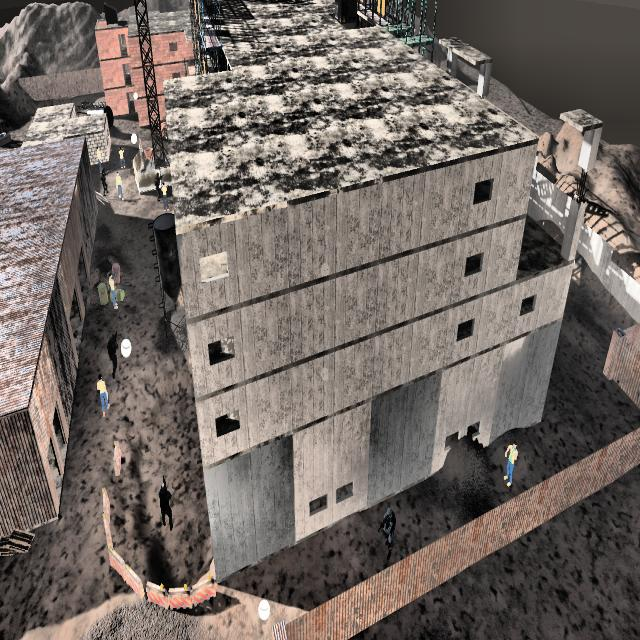bad: (376, 505, 398, 562), (156, 474, 175, 530), (106, 326, 121, 384), (154, 168, 163, 203), (99, 171, 109, 199)
good: (500, 434, 522, 494), (94, 367, 112, 425), (106, 269, 119, 314), (114, 169, 124, 208), (95, 140, 104, 171), (117, 141, 126, 171), (162, 181, 168, 211)
